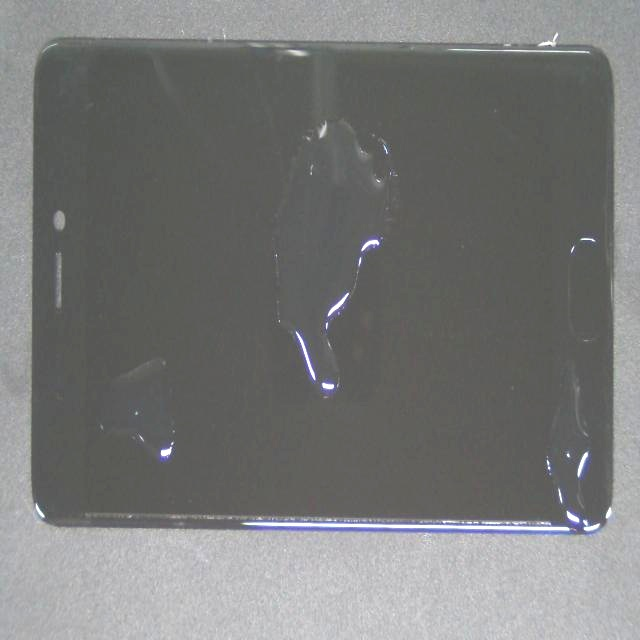oil: (265, 239, 640, 640), (152, 172, 486, 575), (83, 266, 268, 640)
